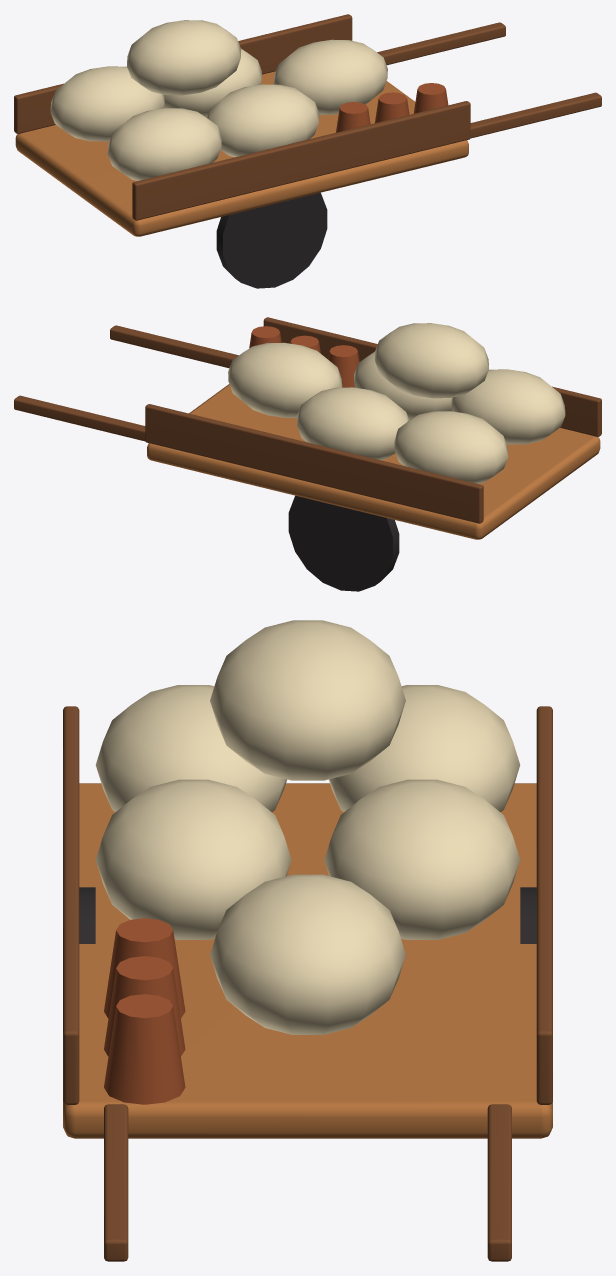
File: ba_gac.glb
3 views of the same model, one above another, from view 1: azimuth 30°, elevation 25°; view 2: azimuth 150°, elevation 25°; view 3: azimuth 270°, elevation 25° (orthographic). The views are drawn at different scales.
Parts seen in each view (by area): view 1: Rail, Bed, Wheel, Sack.005, Sack, Sack.002, Sack.004, Sack.001, Rail.001, Handle, Sack.003, Handle2 (+3 smaller); view 2: Bed, Rail.001, Wheel.001, Sack.005, Sack.001, Sack.004, Sack.003, Sack, Rail, Handle2, Sack.002, Handle (+2 smaller); view 3: Bed, Sack.005, Sack.004, Sack.003, Sack.002, Sack, Sack.001, Jar.002, Rail, Rail.001, Handle, Handle2 (+4 smaller).
Part boxes in pixels (x1,y1,x2,y2): Rail: (132,101,470,220); Bed: (15,71,468,236); Wheel: (216,192,327,288); Sack.005: (127,20,241,95); Sack: (107,108,221,180); Sack.002: (206,84,319,157); Sack.004: (273,39,387,114); Sack.001: (50,66,164,141); Rail.001: (14,14,352,133); Handle: (470,92,601,138); Sack.003: (163,48,261,117); Handle2: (377,22,505,65); Bed: (147,384,600,539); Rail.001: (145,404,483,523); Wheel.001: (288,495,399,591); Sack.005: (374,323,488,398); Sack.001: (394,411,508,483); Sack.004: (228,342,342,417); Sack.003: (296,387,409,460); Sack: (451,369,565,444); Rail: (263,317,601,436); Handle2: (14,395,145,441); Sack.002: (354,351,452,420); Handle: (110,325,238,368); Bed: (63,783,552,1138); Sack.005: (210,620,405,780); Sack.004: (210,874,405,1034); Sack.003: (324,779,519,939); Sack.002: (96,779,291,939); Sack: (95,685,286,812); Sack.001: (329,685,520,812); Jar.002: (104,994,185,1104); Rail: (63,706,79,1104); Rail.001: (536,706,552,1104); Handle: (104,1104,128,1261); Handle2: (487,1104,511,1261).
Size of the model in its own units: 2.7 by 1.22 by 1.2.
